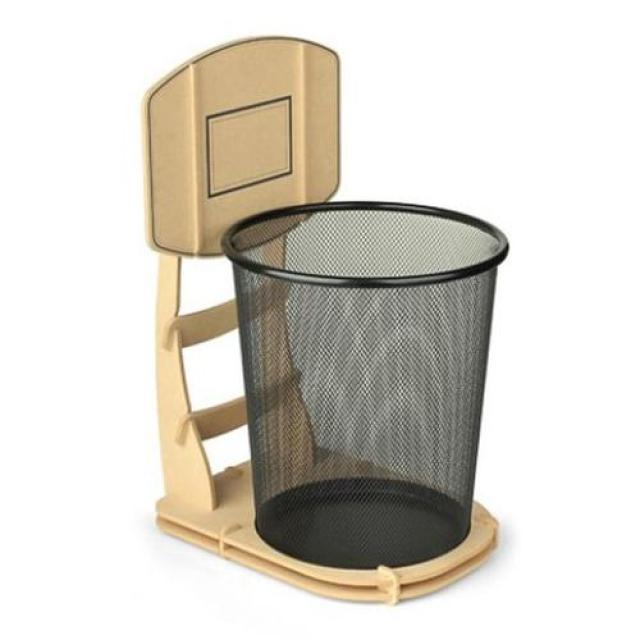dustbin: (219, 196, 517, 576)
